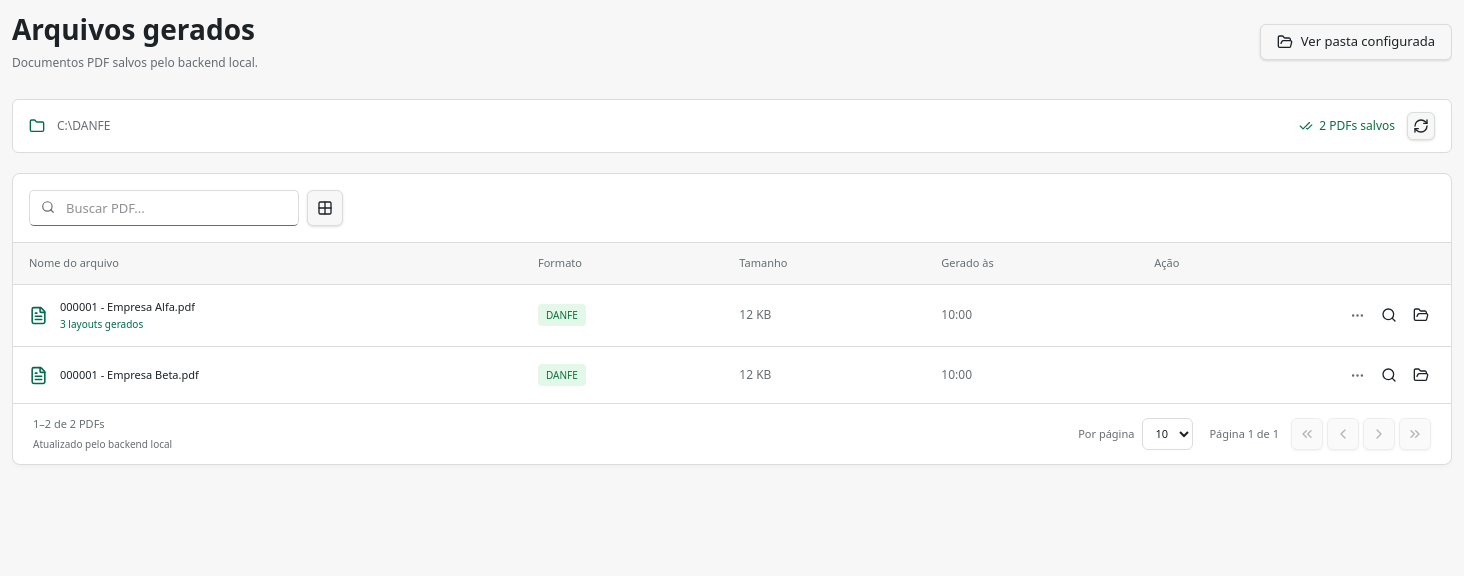
Layouts dentro do DANFE principal › finds the parent when searching a layout and keeps layouts nested in the grid
Type "etiqueta" into the search field named "Buscar arquivos PDF".
click(164, 208); type("etiqueta")  # box top-left (29, 190), bottom-right (299, 226)
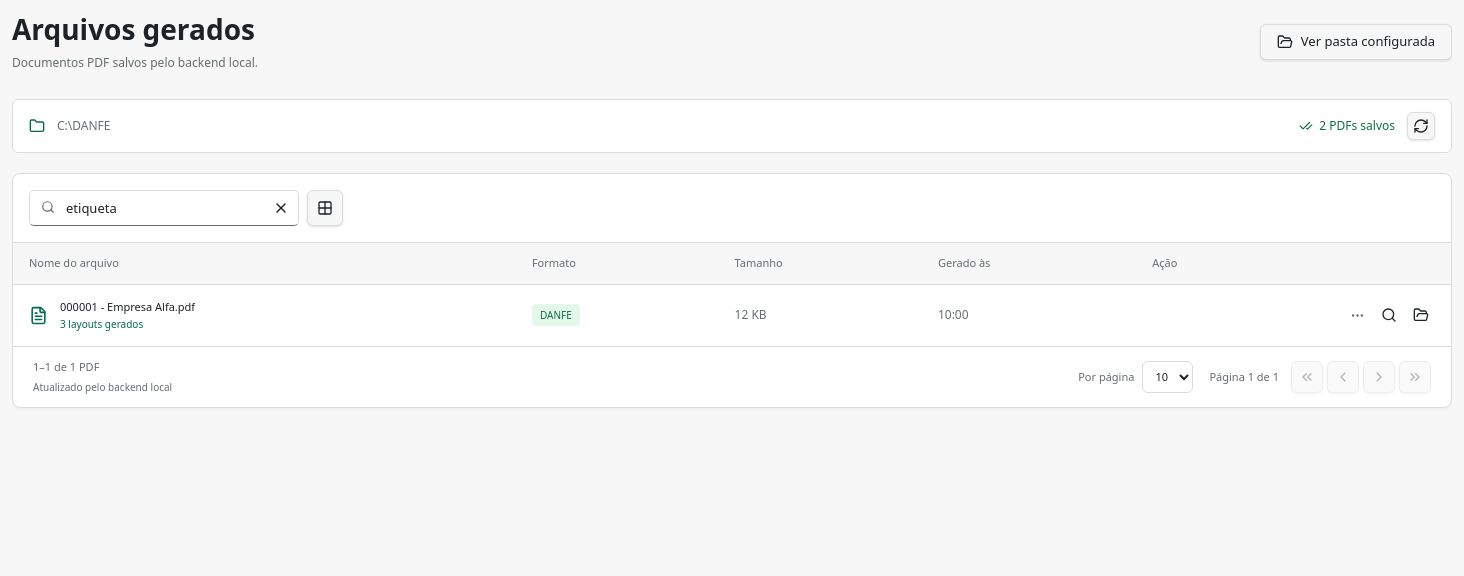
Expected: the text "000001 - Empresa Alfa.pdf" is shown, top-left (60, 298), bottom-right (195, 315)
Expected: the text "1–1 de 1 PDF" is shown, top-left (33, 359), bottom-right (99, 374)
Click the button titled "Visualizar grade".
click(325, 208)  # box top-left (307, 190), bottom-right (343, 226)
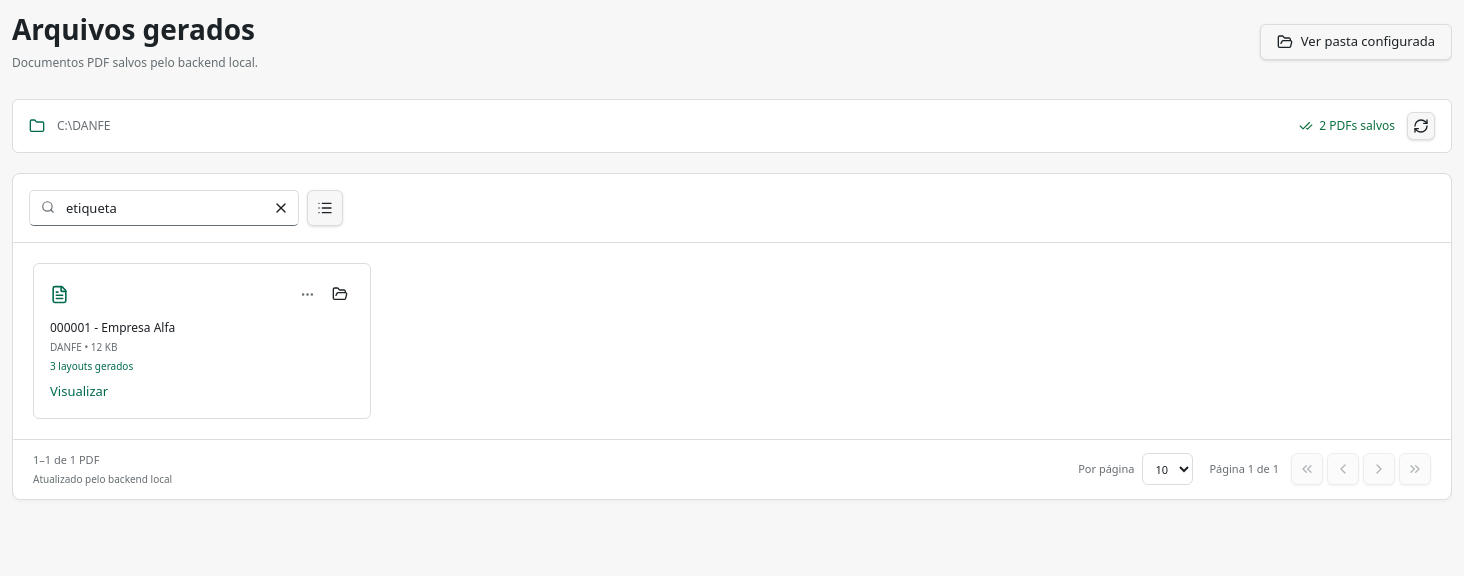
Expected: the text "3 layouts gerados" is shown, top-left (50, 359), bottom-right (133, 373)
Expected: the number of buttons "Visualizar" is 1, top-left (50, 382), bottom-right (108, 402)
Click the button named "Layouts do DANFE".
click(308, 294)  # box top-left (294, 280), bottom-right (322, 308)
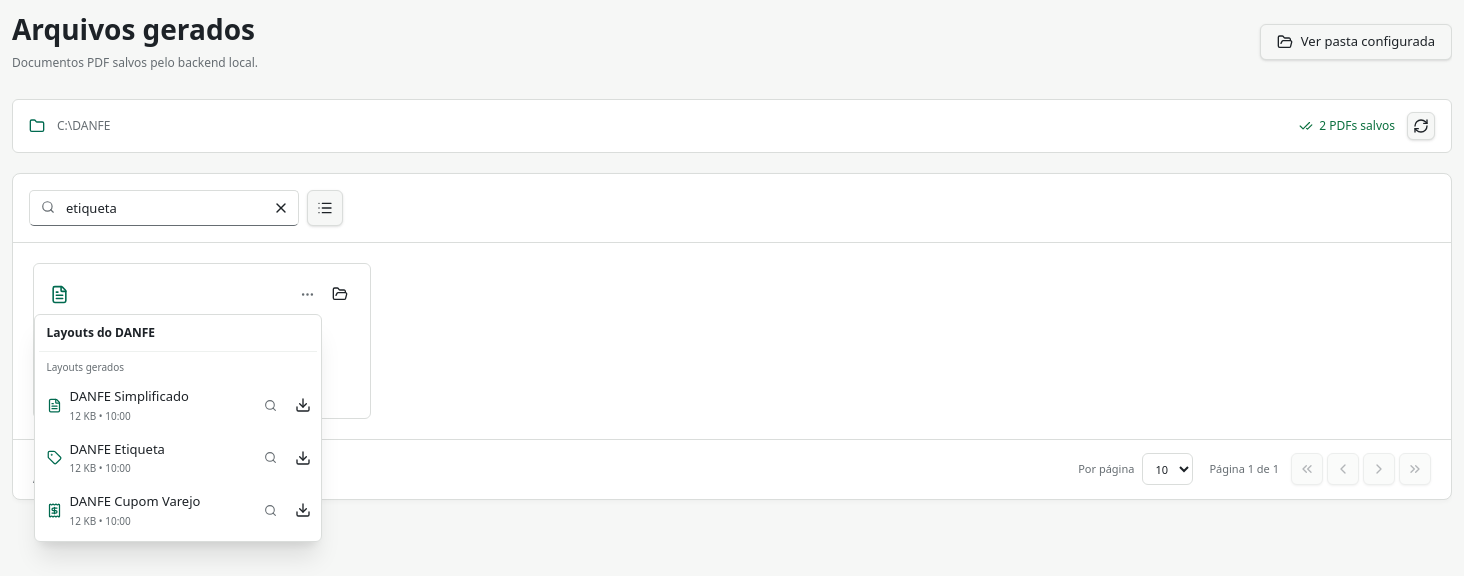
Expected: the menu item with aria-label "Visualizar DANFE Etiqueta" is shown, top-left (38, 432), bottom-right (284, 484)
